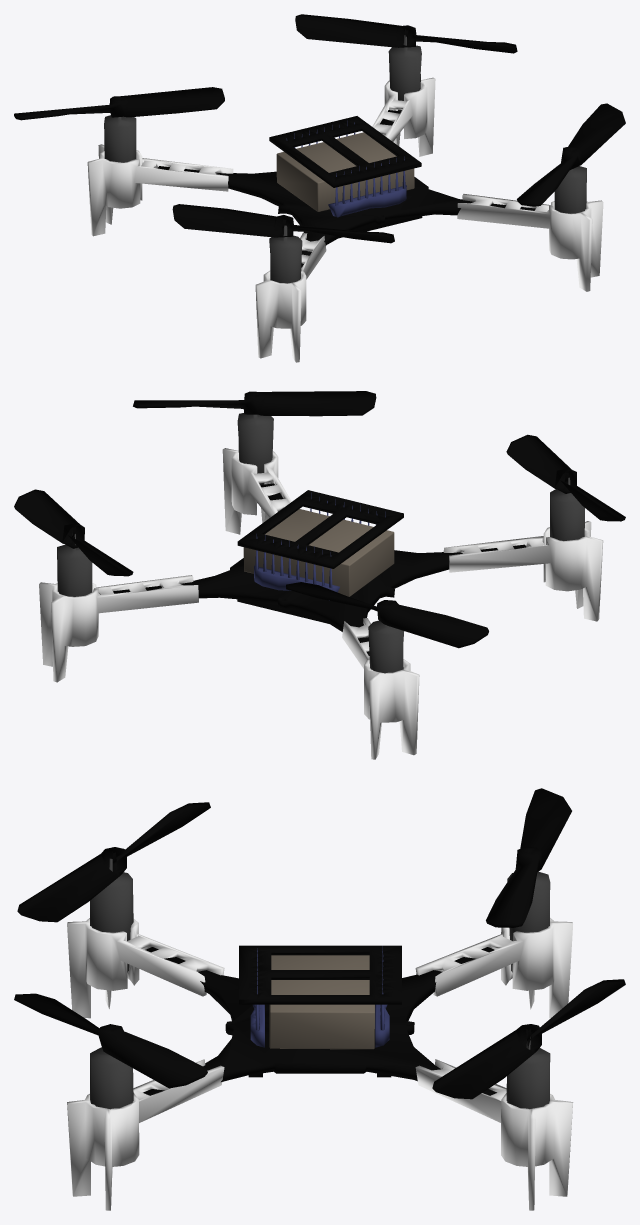
Rendered from crazyflie.glb.
The picture shows the model from 3 angles, top to bottom: view 1: azimuth 30°, elevation 25°; view 2: azimuth 150°, elevation 25°; view 3: azimuth 270°, elevation 25°; orthographic projection. The views are drawn at different scales.
Parts seen in each view (by area): view 1: 7mm motor mount Default sldprt, pcb Default sldprt, 7x15 motor Default sldprt, battery bc-bl-01-a Default sldprt, battery holder board Default sldprt, propeller ccw Default sldprt.002, propeller ccw Default sldprt.003, propeller ccw Default sldprt.004, propeller ccw Default sldprt.001, header Default sldprt; view 2: 7mm motor mount Default sldprt, pcb Default sldprt, 7x15 motor Default sldprt, battery bc-bl-01-a Default sldprt, battery holder board Default sldprt, propeller ccw Default sldprt.001, propeller ccw Default sldprt.004, propeller ccw Default sldprt.002, propeller ccw Default sldprt.003, header Default sldprt; view 3: 7mm motor mount Default sldprt, pcb Default sldprt, 7x15 motor Default sldprt, battery bc-bl-01-a Default sldprt, battery holder board Default sldprt, propeller ccw Default sldprt.002, propeller ccw Default sldprt.003, propeller ccw Default sldprt.004, propeller ccw Default sldprt.001, header Default sldprt.
Boxes of the visible parts, <box> form: 7mm motor mount Default sldprt: <box>87,77,603,362</box>; pcb Default sldprt: <box>157,110,535,267</box>; 7x15 motor Default sldprt: <box>104,35,586,283</box>; battery bc-bl-01-a Default sldprt: <box>276,132,414,211</box>; battery holder board Default sldprt: <box>269,116,421,187</box>; propeller ccw Default sldprt.002: <box>295,14,517,53</box>; propeller ccw Default sldprt.003: <box>172,204,394,243</box>; propeller ccw Default sldprt.004: <box>14,87,224,120</box>; propeller ccw Default sldprt.001: <box>517,103,625,206</box>; header Default sldprt: <box>286,120,406,217</box>; 7mm motor mount Default sldprt: <box>39,448,603,759</box>; pcb Default sldprt: <box>113,483,526,655</box>; 7x15 motor Default sldprt: <box>57,413,584,673</box>; battery bc-bl-01-a Default sldprt: <box>243,509,394,596</box>; battery holder board Default sldprt: <box>237,490,403,568</box>; propeller ccw Default sldprt.001: <box>133,391,376,416</box>; propeller ccw Default sldprt.004: <box>286,582,488,648</box>; propeller ccw Default sldprt.002: <box>14,489,133,576</box>; propeller ccw Default sldprt.003: <box>506,434,625,521</box>; header Default sldprt: <box>254,492,385,600</box>; 7mm motor mount Default sldprt: <box>67,918,573,1210</box>; pcb Default sldprt: <box>143,947,496,1095</box>; 7x15 motor Default sldprt: <box>90,858,550,1109</box>; battery bc-bl-01-a Default sldprt: <box>269,955,374,1049</box>; battery holder board Default sldprt: <box>239,945,401,1004</box>; propeller ccw Default sldprt.002: <box>432,979,625,1099</box>; propeller ccw Default sldprt.003: <box>17,802,210,922</box>; propeller ccw Default sldprt.004: <box>486,788,571,927</box>; propeller ccw Default sldprt.001: <box>14,993,207,1088</box>; header Default sldprt: <box>250,946,389,1047</box>.
Bounding box in the file's own units: 2.88 × 0.8011 × 2.59.
